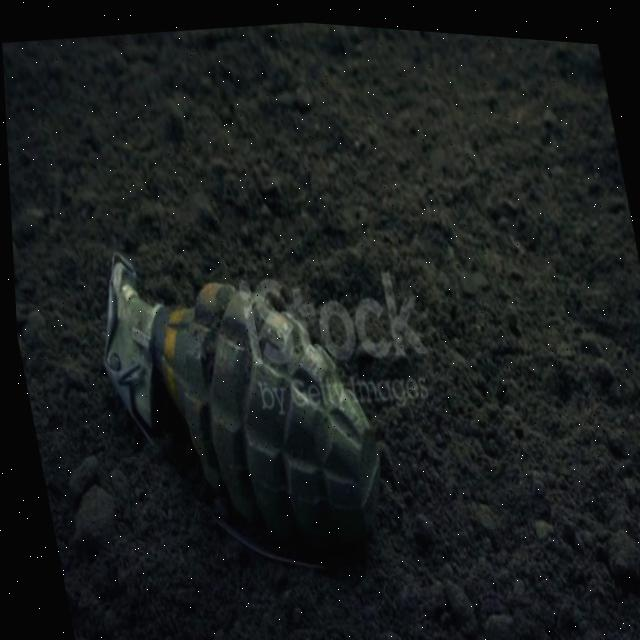grenade: (75, 214, 400, 602)
